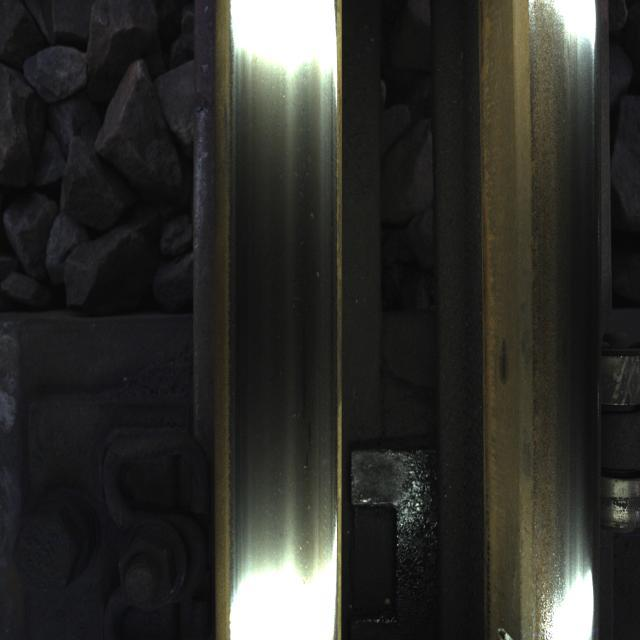break: (245, 9, 326, 622)
